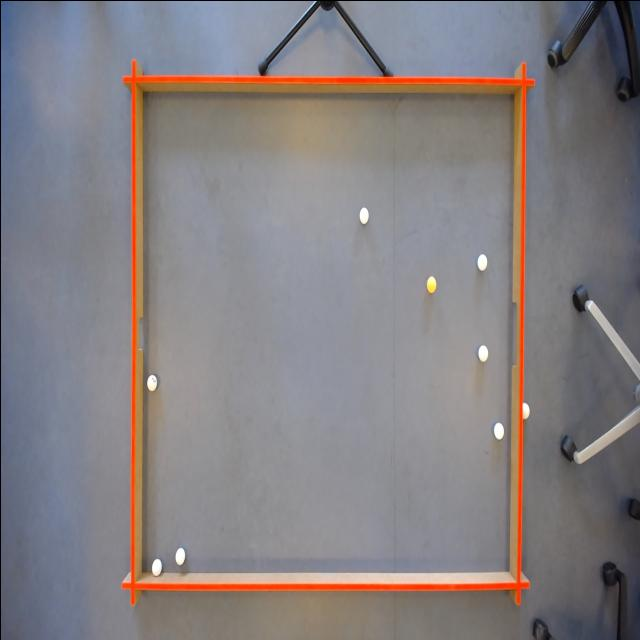orange_ball: (425, 273, 437, 295)
white_ball: (476, 339, 490, 364), (144, 371, 158, 395), (150, 554, 162, 578), (358, 204, 370, 227), (492, 420, 504, 442), (173, 546, 186, 566), (518, 398, 530, 419), (476, 251, 487, 273)
